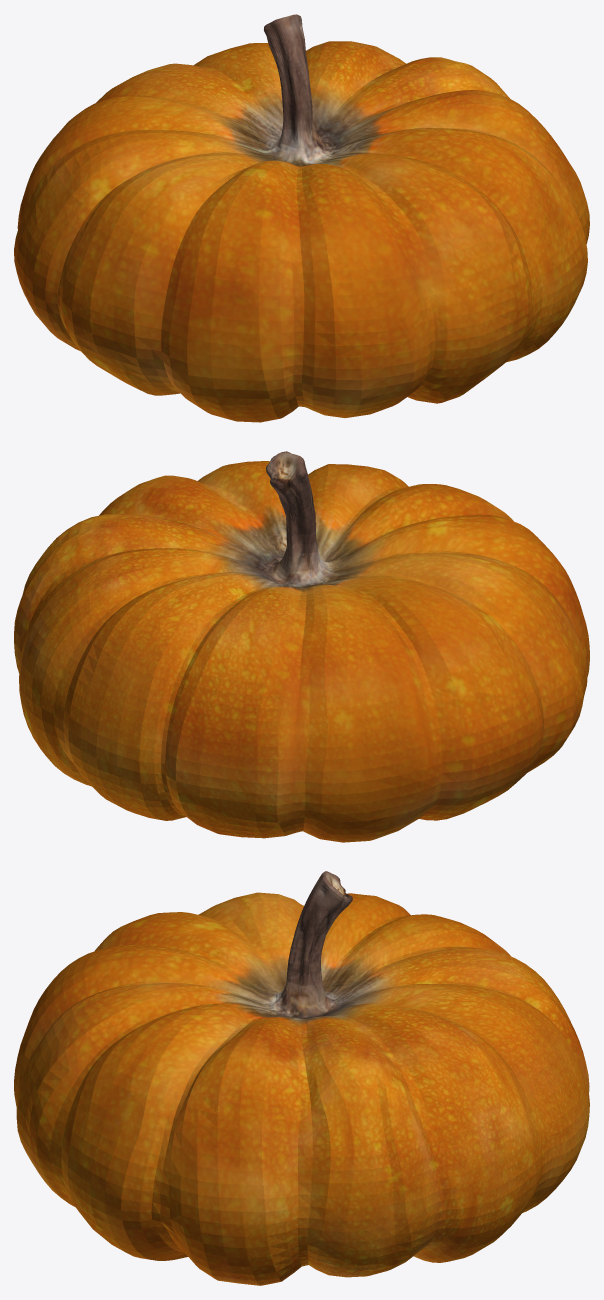
Rendered from pumpkin_.glb.
3 renders of one model, top to bottom at view 1: azimuth 30°, elevation 25°; view 2: azimuth 150°, elevation 25°; view 3: azimuth 270°, elevation 25°, orthographic.
Bounding box in the file's own units: 204 × 125 × 200.
1 material, 1 textured.
